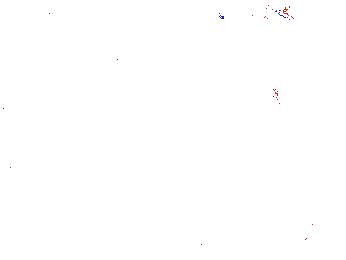glassfish: (262, 118, 346, 154)
red belly glassfish: (46, 13, 74, 40)
redtail glassfish: (216, 1, 295, 24), (263, 82, 283, 112)
